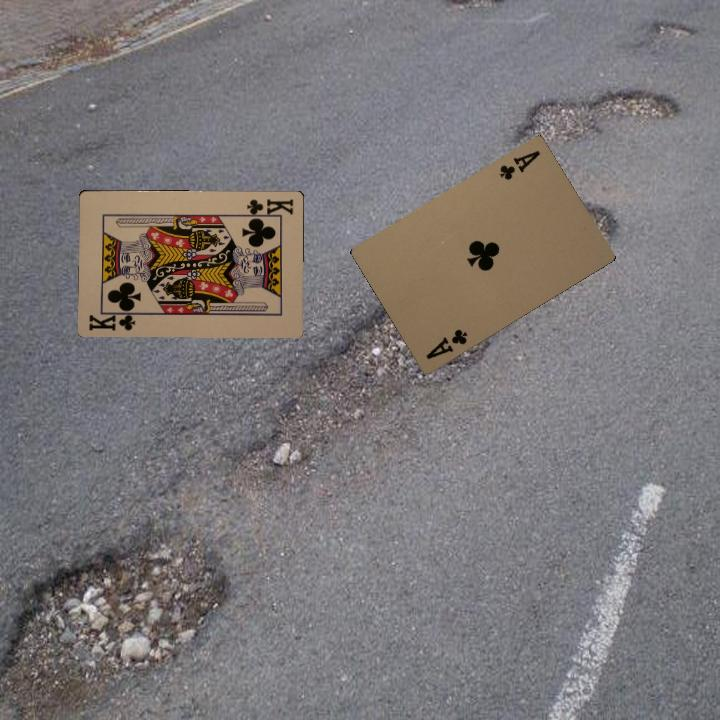Ac: (422, 325, 470, 362), (495, 146, 543, 183)
Kc: (85, 307, 139, 333), (241, 195, 296, 219)
